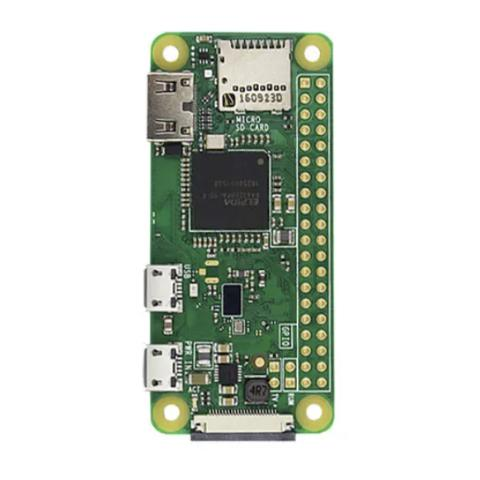Raspberry-Pi-Zero-W: (142, 30, 336, 442)
